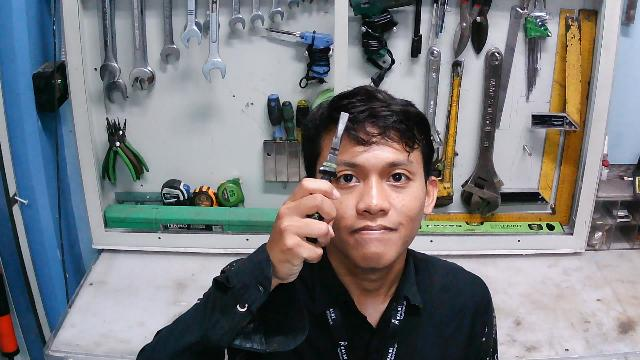tang_kombinasi: (302, 112, 351, 251)
